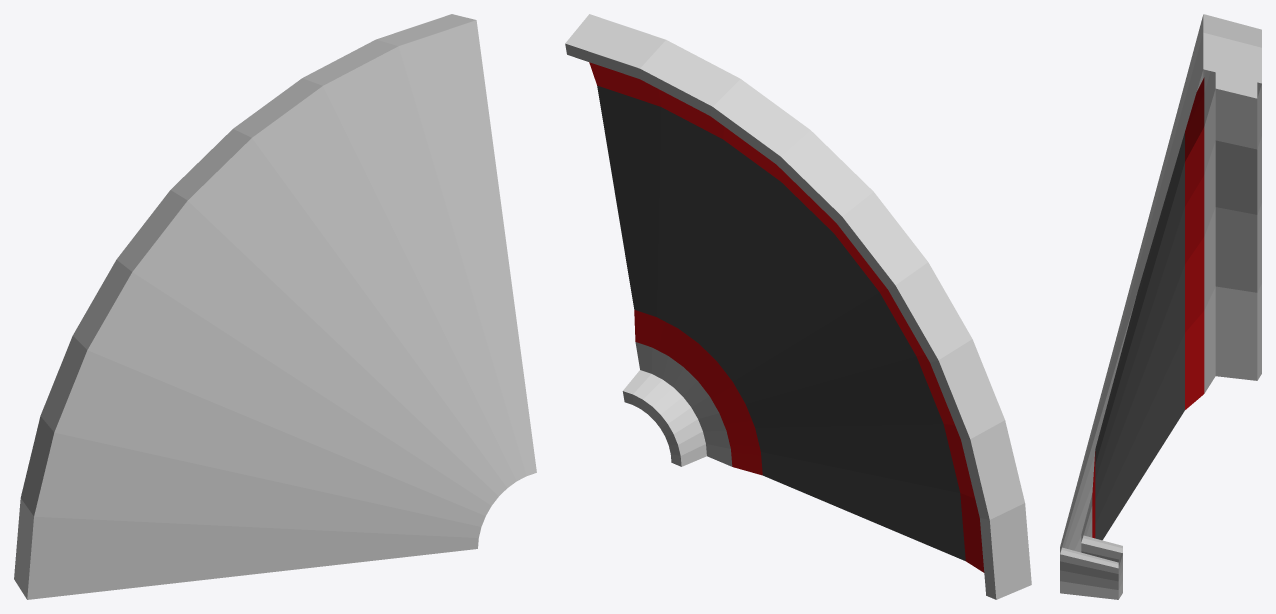
File: Corner_Pitch1.fbx
3 renders of one model, left to right at view 1: azimuth 30°, elevation 25°; view 2: azimuth 150°, elevation 25°; view 3: azimuth 270°, elevation 25°, orthographic. The views are drawn at different scales.
Parts seen in each view (by area): view 1: Corner_Pitch1; view 2: Corner_Pitch1; view 3: Corner_Pitch1.
Boxes of the visible parts, left/top/right/bottom form: Corner_Pitch1: left=14, top=14, right=536, bottom=599; Corner_Pitch1: left=565, top=14, right=1031, bottom=599; Corner_Pitch1: left=1060, top=14, right=1261, bottom=599.
Size of the model in its own units: 1423 by 1423 by 467.
